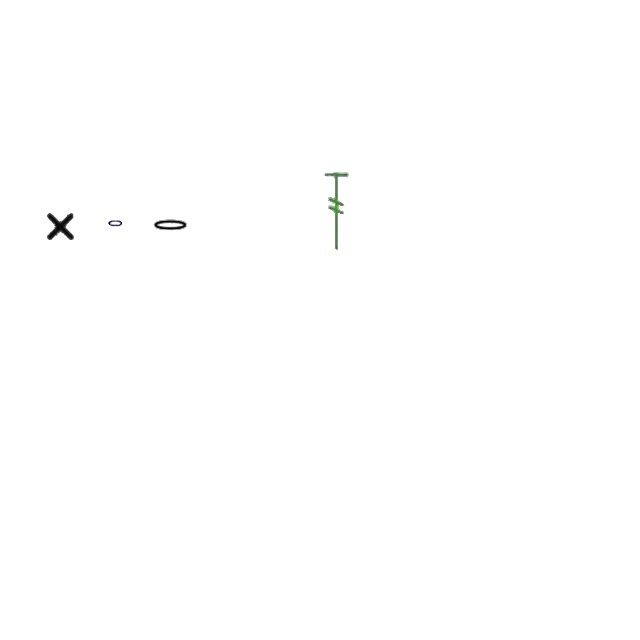half_double: (322, 172, 350, 252)
slip_stitch: (44, 208, 78, 244)
treble: (152, 218, 190, 234), (108, 217, 124, 229)
